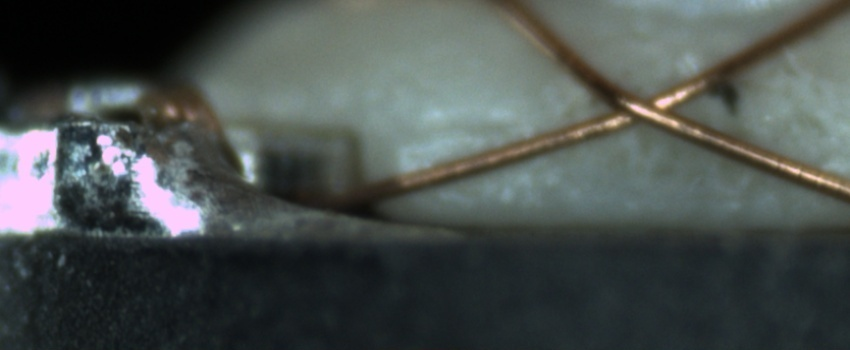CL: (576, 60, 718, 143)
DL: (400, 108, 552, 165)
TE: (16, 70, 217, 125)
